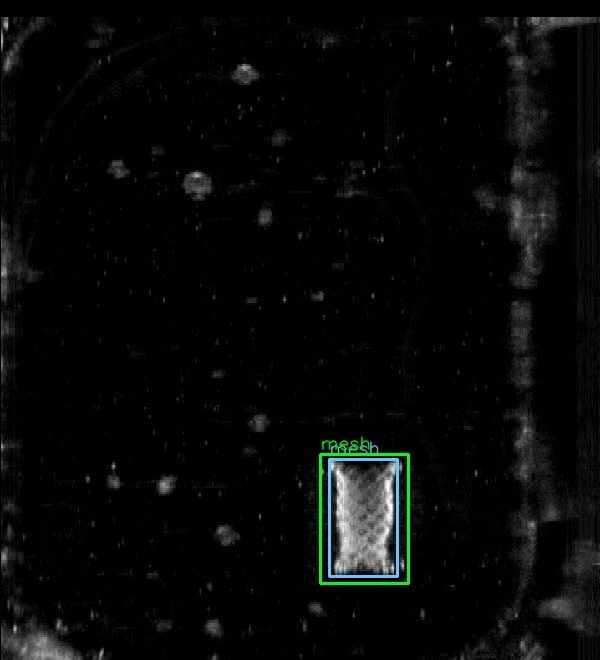mesh: (329, 459, 397, 576)
